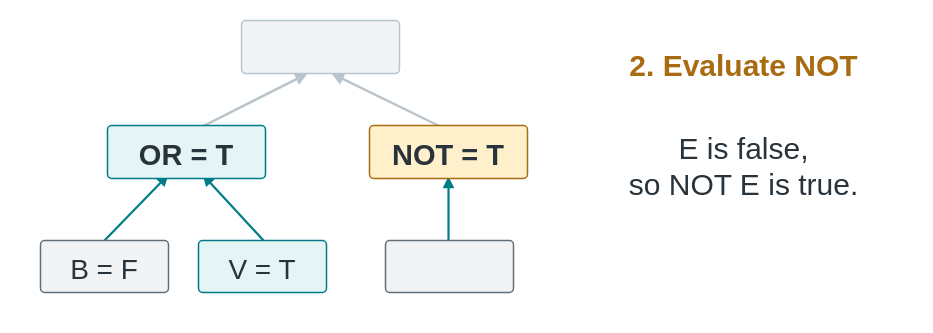
Image size: 933x333. Some labels were removed from this diagram. The shapes that lost their labels are listed below. From the top down, each one's centre as x and y in pixels, then its label:
the point at 320,46: AND
the point at 449,266: E = F
